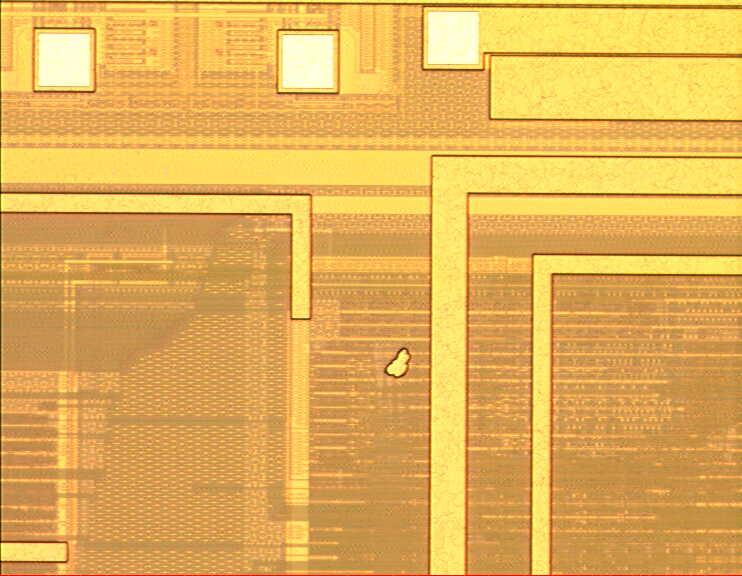BLOCK ETCH: (383, 346, 415, 382)
